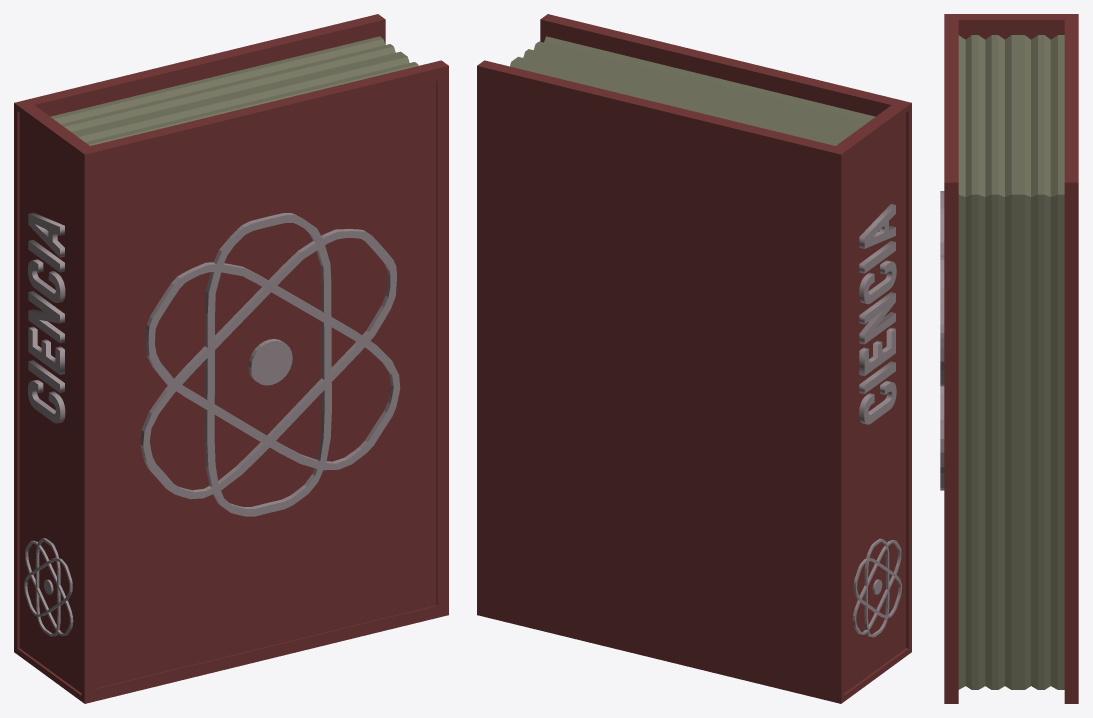
Rendered from LibrosCiencia.fbx.
The picture shows the model from 3 angles, left to right: view 1: azimuth 30°, elevation 25°; view 2: azimuth 150°, elevation 25°; view 3: azimuth 270°, elevation 25°; orthographic projection. The views are drawn at different scales.
Parts seen in each view (by area): view 1: LibroCiencia; view 2: LibroCiencia; view 3: LibroCiencia.
Boxes of the visible parts, x1=… form: LibroCiencia: x1=14, y1=14, x2=448, y2=703; LibroCiencia: x1=477, y1=14, x2=911, y2=703; LibroCiencia: x1=940, y1=14, x2=1078, y2=703.
Bounding box in the file's own units: 0.1711 × 0.2436 × 0.0586.
